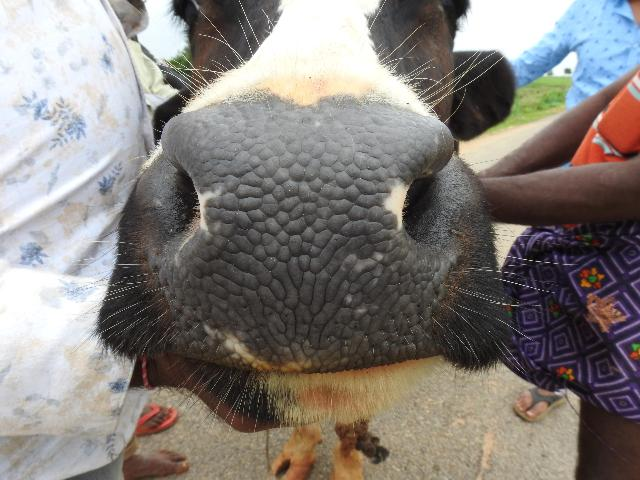Muzzle: (176, 115, 420, 363)
